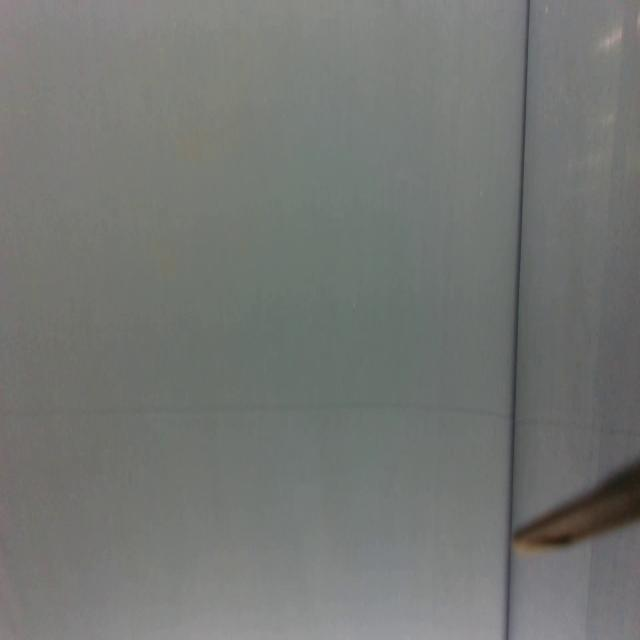color bleeding: (3, 395, 639, 437)
crease: (508, 1, 532, 518), (504, 544, 511, 640)
